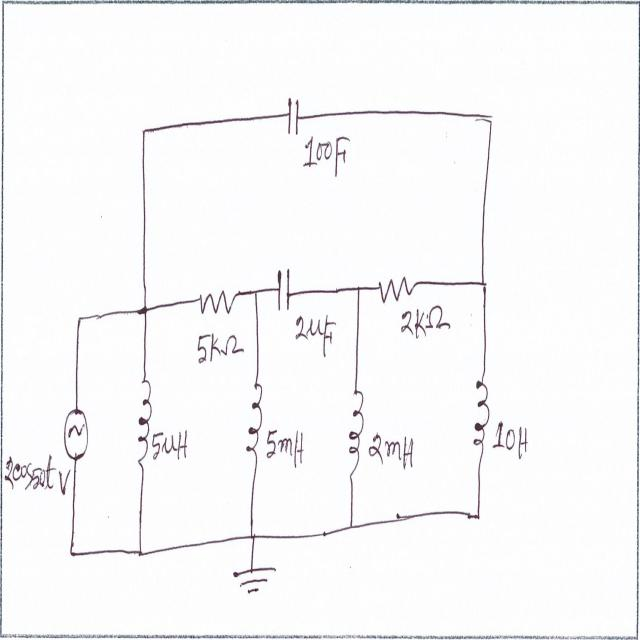ac_current: (61, 402, 92, 468)
capacitor: (276, 265, 292, 318), (284, 94, 302, 138)
ground: (232, 562, 280, 606)
inductor: (347, 388, 366, 486), (247, 379, 266, 467), (474, 376, 492, 468), (138, 374, 154, 474)
resistor: (376, 264, 416, 310), (198, 275, 241, 317)
